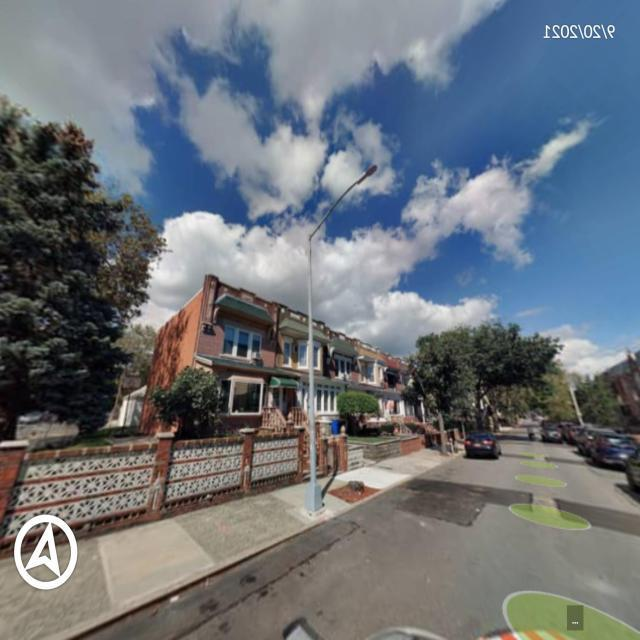off: (278, 141, 390, 256)
